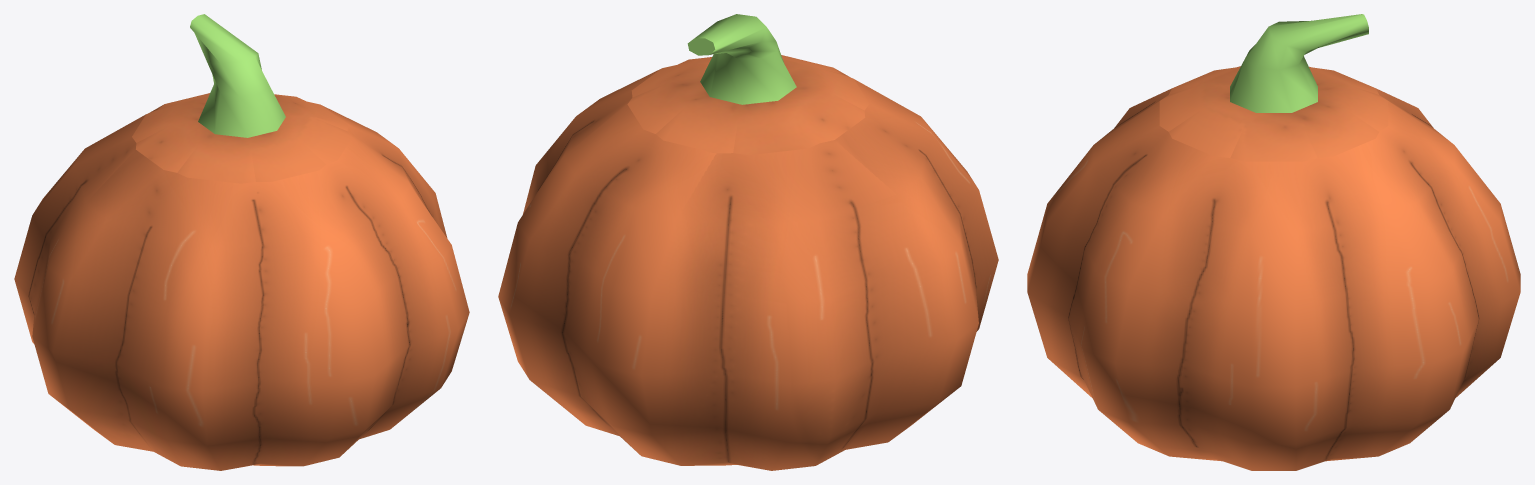
Rendered from Pumpkin.fbx.
3 renders of one model, left to right at view 1: azimuth 30°, elevation 25°; view 2: azimuth 150°, elevation 25°; view 3: azimuth 270°, elevation 25°, orthographic. The views are drawn at different scales.
Parts seen in each view (by area): view 1: BasePumpkin, PumpkinTop; view 2: BasePumpkin, PumpkinTop; view 3: BasePumpkin, PumpkinTop.
Part boxes in pixels (bbox=[...]): BasePumpkin: bbox=[14, 105, 469, 470]; PumpkinTop: bbox=[132, 14, 351, 183]; BasePumpkin: bbox=[498, 68, 998, 470]; PumpkinTop: bbox=[627, 14, 869, 155]; BasePumpkin: bbox=[1027, 88, 1520, 470]; PumpkinTop: bbox=[1159, 14, 1388, 161].
Size of the model in its own units: 94.61 by 88.25 by 94.61.
2 materials, 1 textured.
